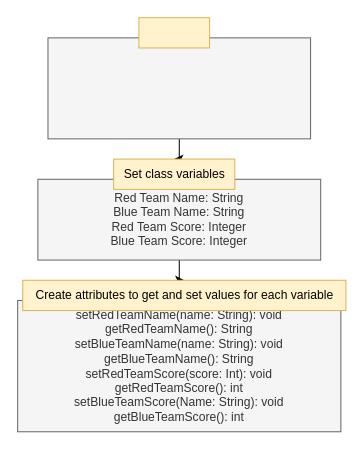
The diagram is 364 pixels wide and 449 high, and some of its shapes have lost their labels. The centre of each missing label's shape, as x and y in pixels:
"Class Baseball Game!" goes at (179,88).
"Set class" goes at (174,32).
